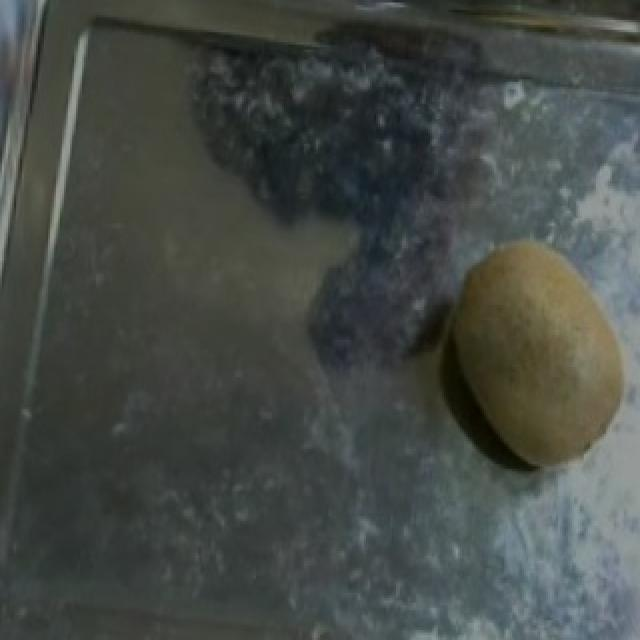Fruit: (426, 226, 640, 488)
